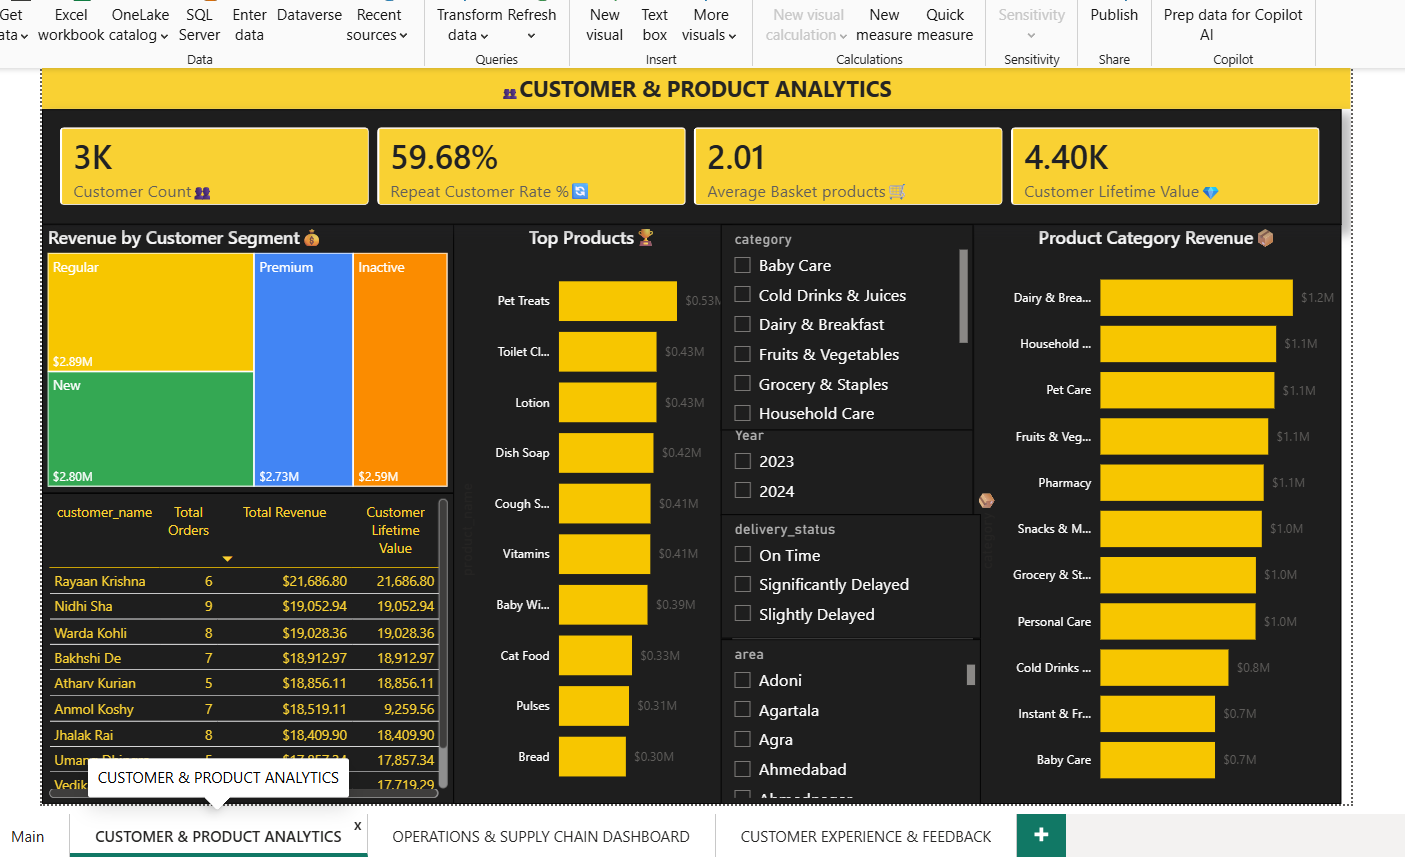

The page's visual inventory and layout, read from the dashboard file:
{"tool":"powerbi","page":{"name":"CUSTOMER & PRODUCT ANALYTICS","canvas":[1280,720],"ordinal":1},"visuals":[{"type":"treemap","title":"Revenue by Customer Segment💰","fields":{"Group":["blinkit_customers.customer_segment"],"Values":["_Measures1.Total Revenue"]},"box":[0,152.9,402.9,262.9],"z":0},{"type":"clusteredBarChart","title":"Product Category Revenue📦","fields":{"Category":["blinkit_products.category"],"Y":["_Measures1.Total Revenue"]},"box":[911.4,152.9,360,567.1],"z":1000},{"type":"tableEx","fields":{"Values":["blinkit_customers.customer_name","_Measures1.Total Orders","_Measures1.Total Revenue","_Measures2.Customer Lifetime Value"]},"box":[0,415.7,402.9,304.3],"z":2000},{"type":"barChart","title":"Top Products🏆","fields":{"Category":["blinkit_products.product_name"],"Y":["_Measures1.Total Revenue"]},"box":[402.9,152.9,272.9,567.1],"z":3000},{"type":"textbox","box":[0,0,1280,40],"z":4000},{"type":"cardVisual","fields":{"Data":["_Measures2.Customer Count","_Measures2.Repeat Customer Rate %","_Measures2.Average Basket Size","_Measures2.Customer Lifetime Value"]},"box":[0,40,1271.4,112.9],"z":5000},{"type":"slicer","fields":{"Values":["blinkit_customer_feedback.feedback_date.Variation.Date Hierarchy.Year"]},"box":[664.3,344.3,247.1,92.9],"z":6000},{"type":"slicer","fields":{"Values":["blinkit_products.category"]},"box":[664.3,152.9,247.1,201.4],"z":7000},{"type":"slicer","fields":{"Values":["blinkit_delivery_performance.delivery_status"]},"box":[664.3,437.1,254.3,121.4],"z":8000},{"type":"slicer","fields":{"Values":["blinkit_customers.area"]},"box":[664.3,558.6,254.3,161.4],"z":9000}]}

Visuals, with their boxes on the page's 1280x720 design canvas (x1, y1, x2, y2). These are canvas units, not pixel positions in the 1405x857 screenshot, which may show the page scaled, cropped or inside an application window:
"Revenue by Customer Segment💰" treemap: 0,153,403,416
"Product Category Revenue📦" clusteredBarChart: 911,153,1271,720
tableEx - blinkit_customers.customer_name x _Measures1.Total Orders: 0,416,403,720
"Top Products🏆" barChart: 403,153,676,720
textbox: 0,0,1280,40
cardVisual - _Measures2.Customer Count x _Measures2.Repeat Customer Rate %: 0,40,1271,153
slicer - blinkit_customer_feedback.feedback_date.Variation.Date Hierarchy.Year: 664,344,911,437
slicer - blinkit_products.category: 664,153,911,354
slicer - blinkit_delivery_performance.delivery_status: 664,437,919,558
slicer - blinkit_customers.area: 664,559,919,720
